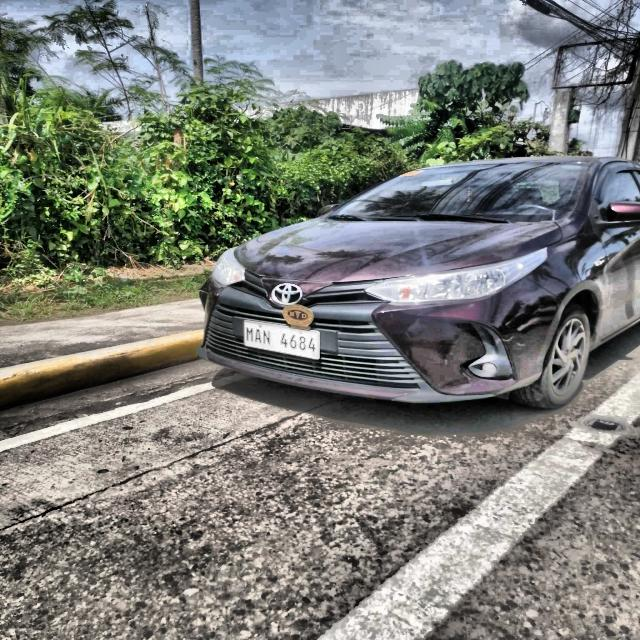license-plate: (240, 321, 323, 359)
